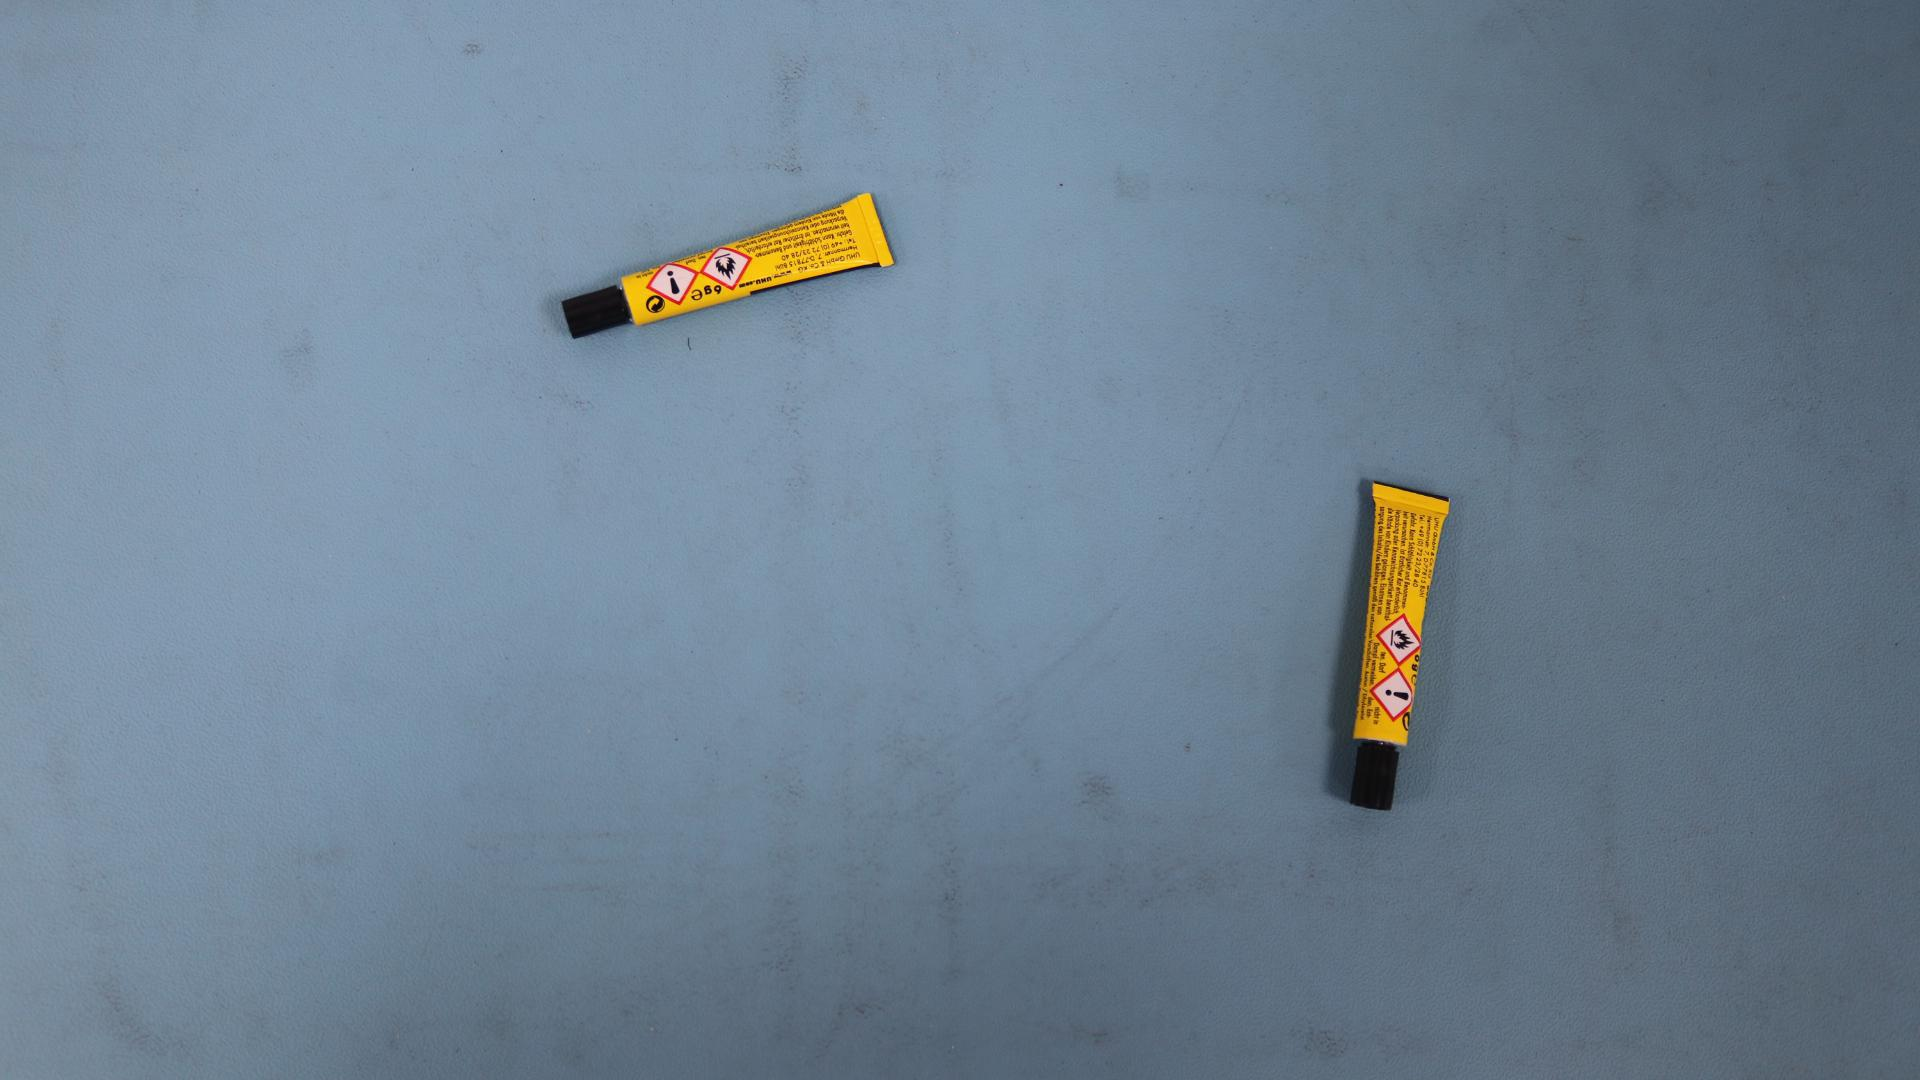Head: (1371, 769, 1381, 780), (591, 308, 598, 315)
Tail: (1406, 492, 1418, 503), (871, 226, 880, 234)
Tube: (562, 193, 895, 340), (1349, 481, 1450, 810)
